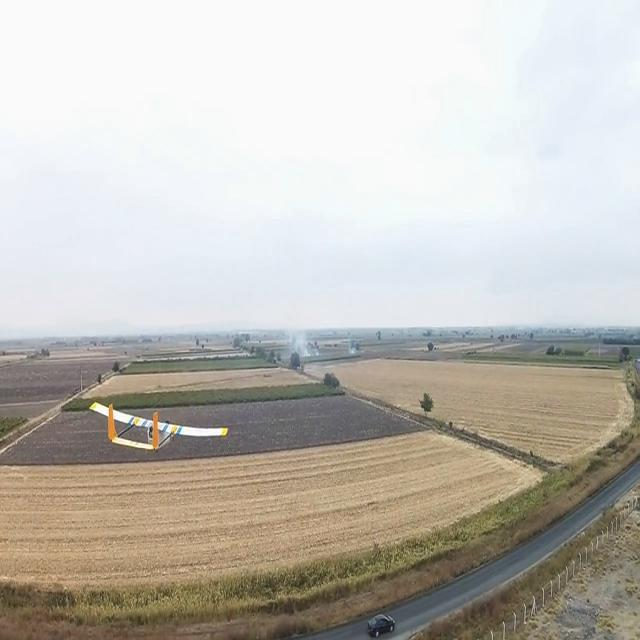iha: (88, 421, 232, 436)
